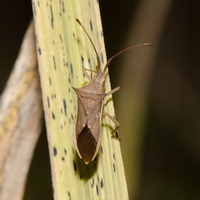insect: (73, 43, 152, 163)
